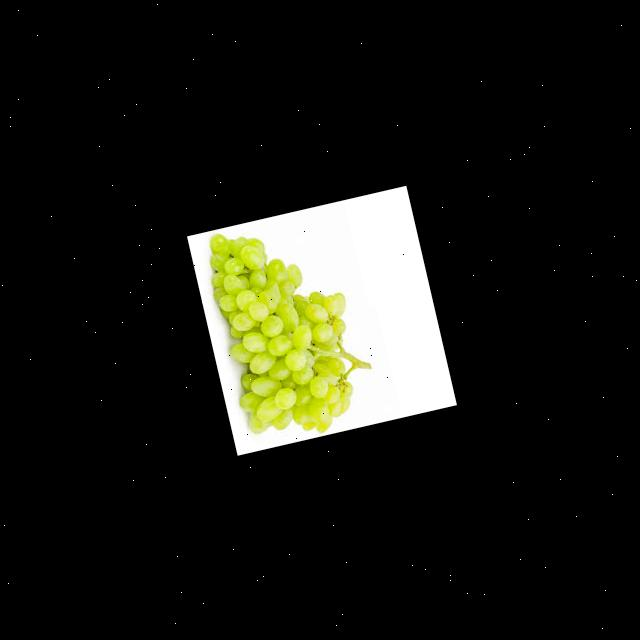grape: (198, 206, 382, 450)
